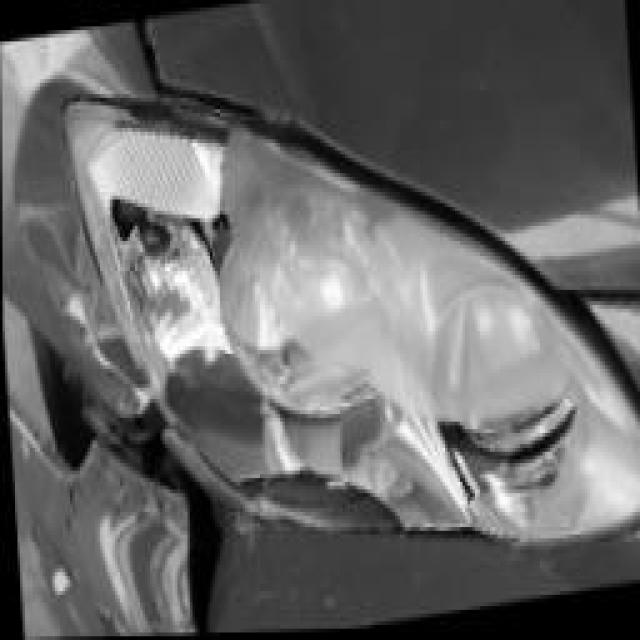Bumper: (6, 392, 307, 640)
Fender: (0, 26, 149, 419)
Light: (61, 102, 640, 544)
